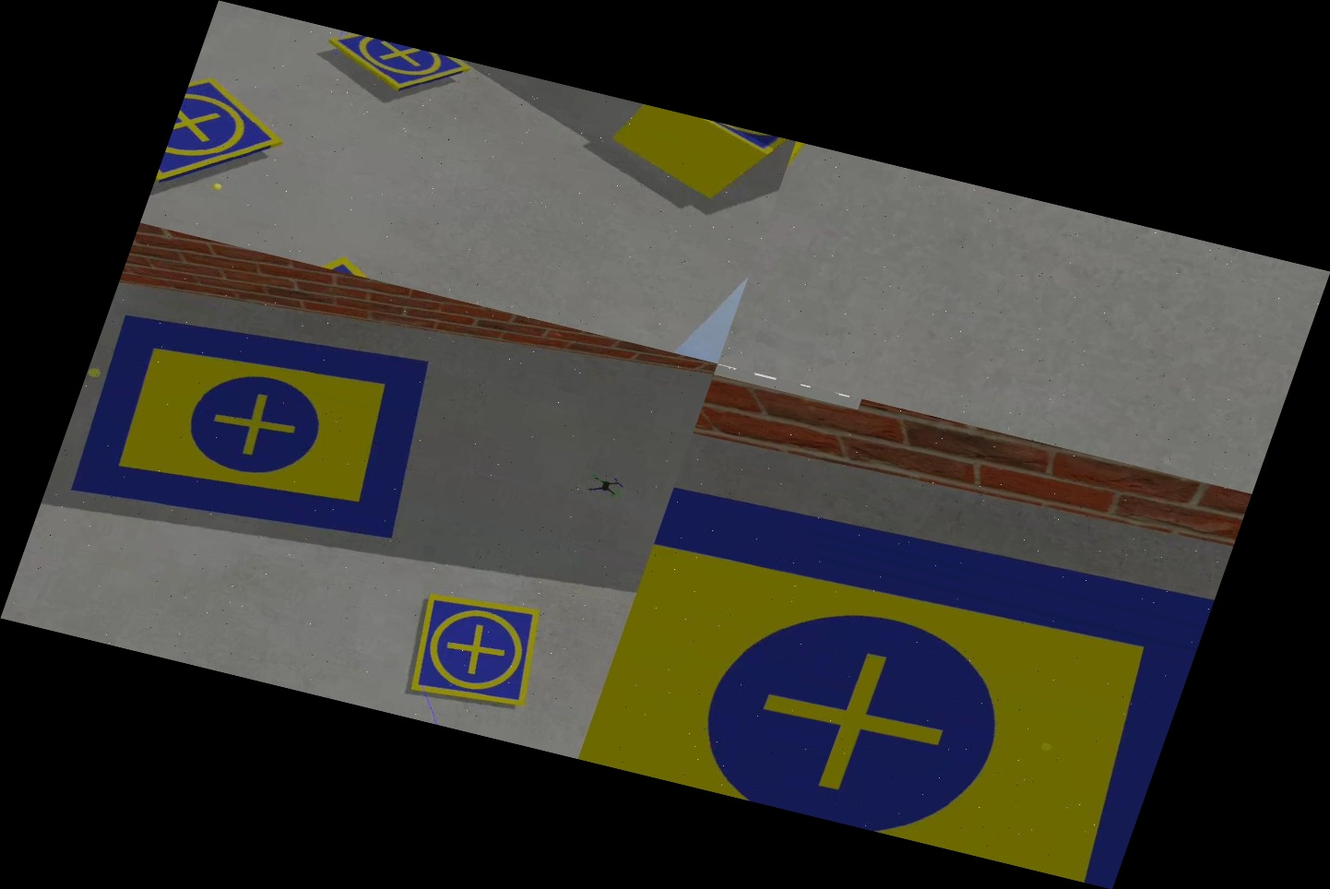large_base: (577, 470, 1213, 889), (56, 289, 456, 569)
small_base: (395, 584, 555, 719), (154, 74, 299, 208), (317, 29, 473, 108), (638, 105, 796, 163)
